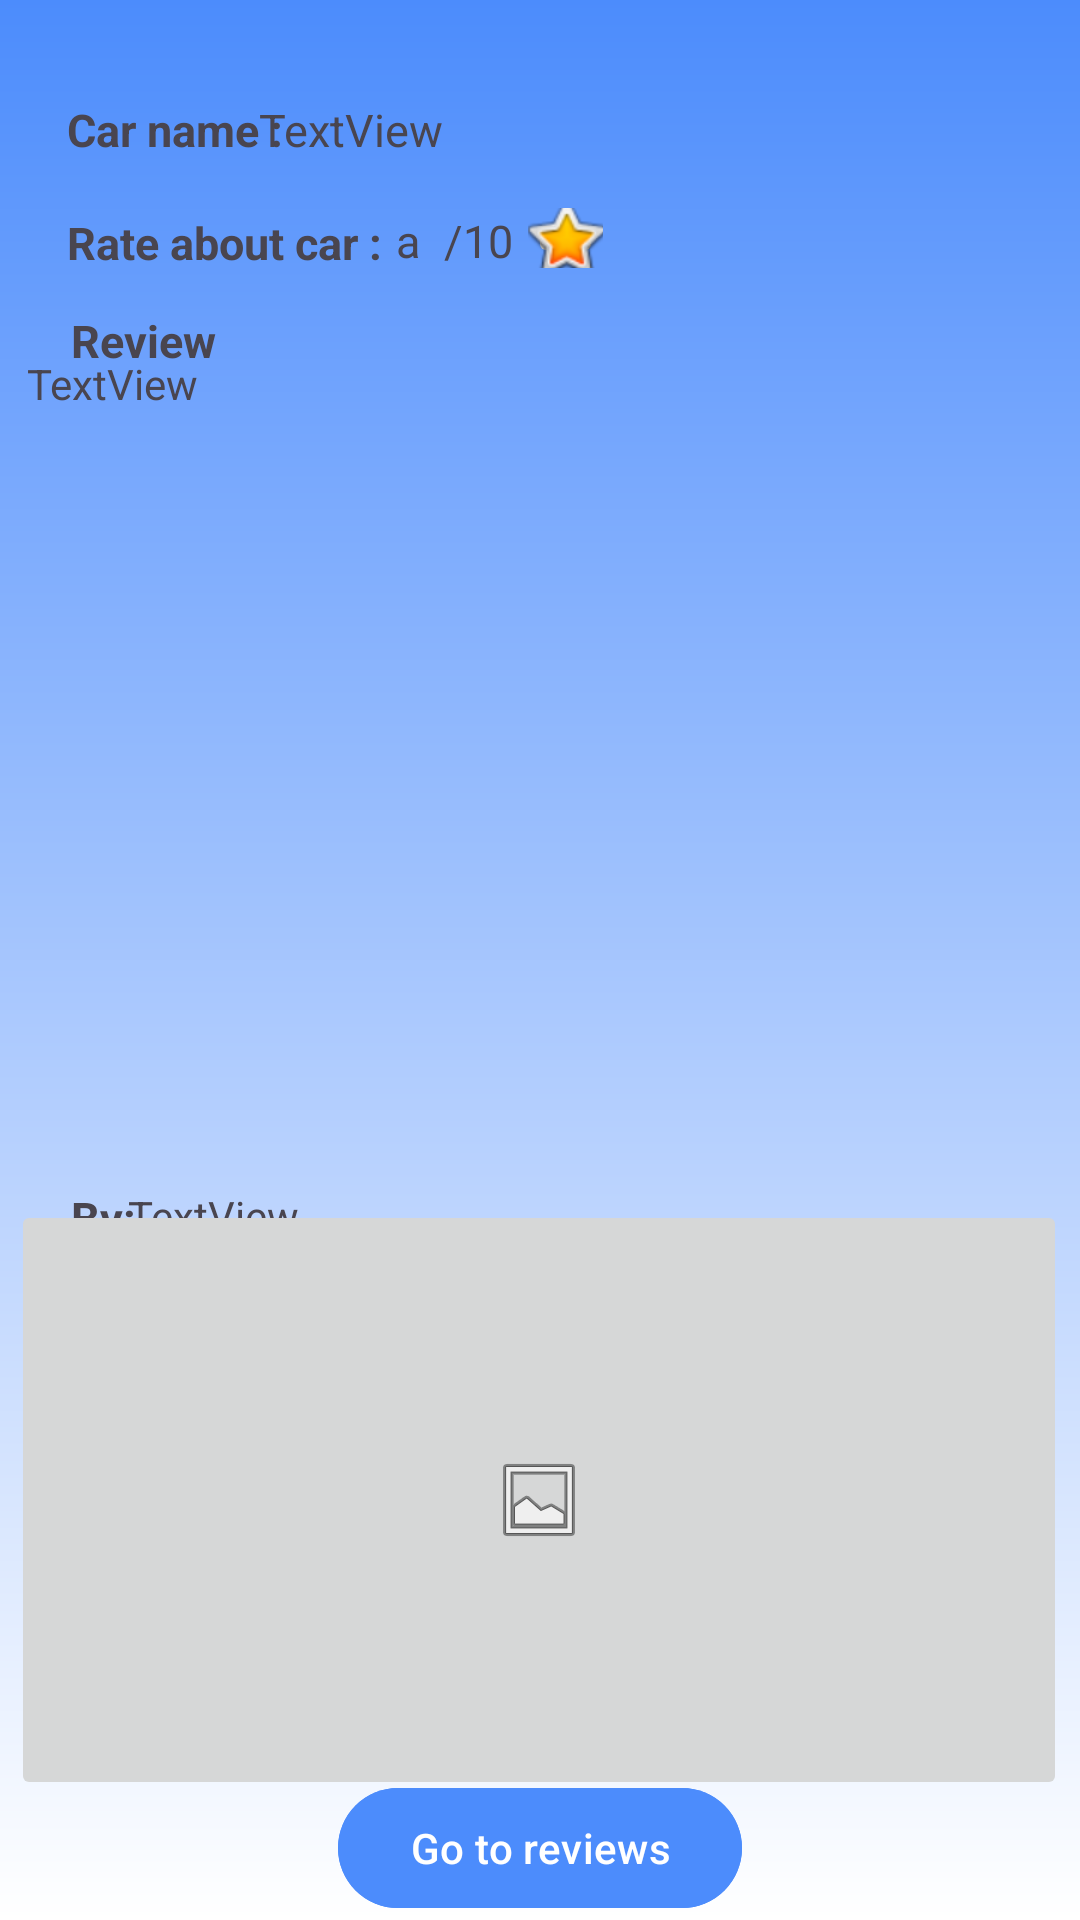

Icon bounding boxes for this 1080px x 1920px phone screenshot, format region(x1, y1, x2, y2):
star on: region(528, 208, 603, 268)
